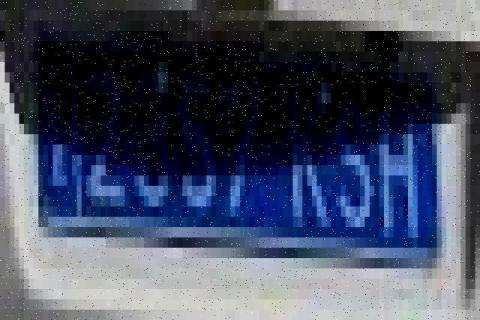LicensePlate: (35, 28, 442, 260)
